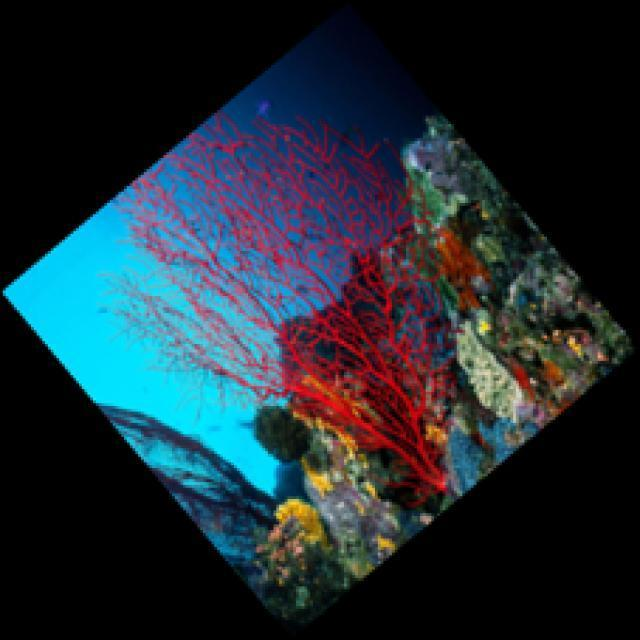Healthy: (96, 108, 461, 508), (445, 419, 543, 504), (438, 225, 493, 315), (278, 499, 327, 545)
